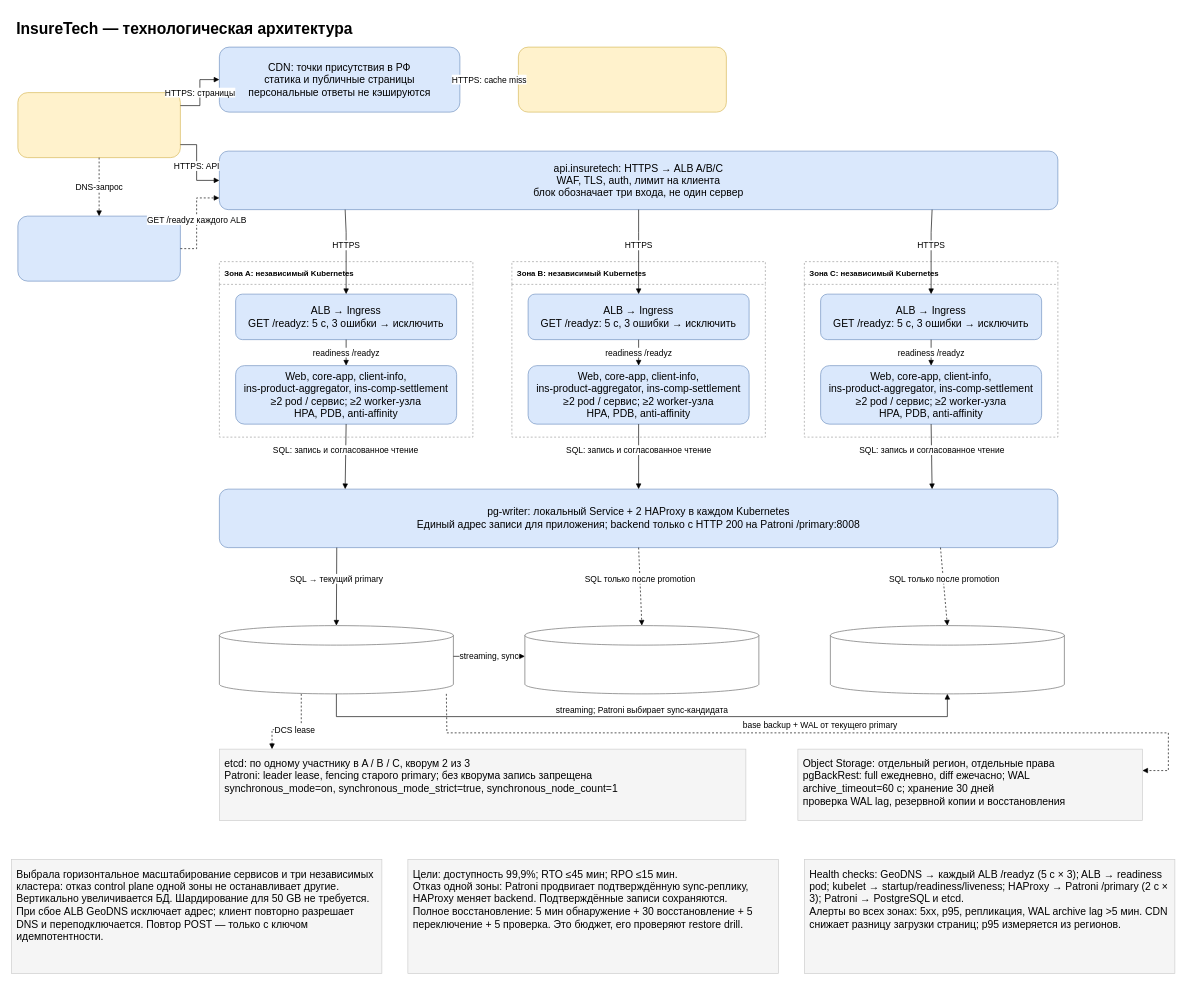
This 1193x985 diagram has some shape labels left out. Here are the shapes that lost their labels. From the top down, the centre of each, then its label:
point 622,79: Origin: Object Storage версионированная сборка Web
point 98,125: Клиенты из регионов РФ и B2B-партнёры
point 98,248: GeoDNS DNS-ответ с адресом доступного ALB; TTL 30 с
point 336,659: Зона A: PostgreSQL + Patroni текущий primary; 50 GB
point 641,659: Зона B: PostgreSQL + Patroni текущая sync-реплика; read-only
point 947,659: Зона C: PostgreSQL + Patroni резервный кандидат sync; read-only
